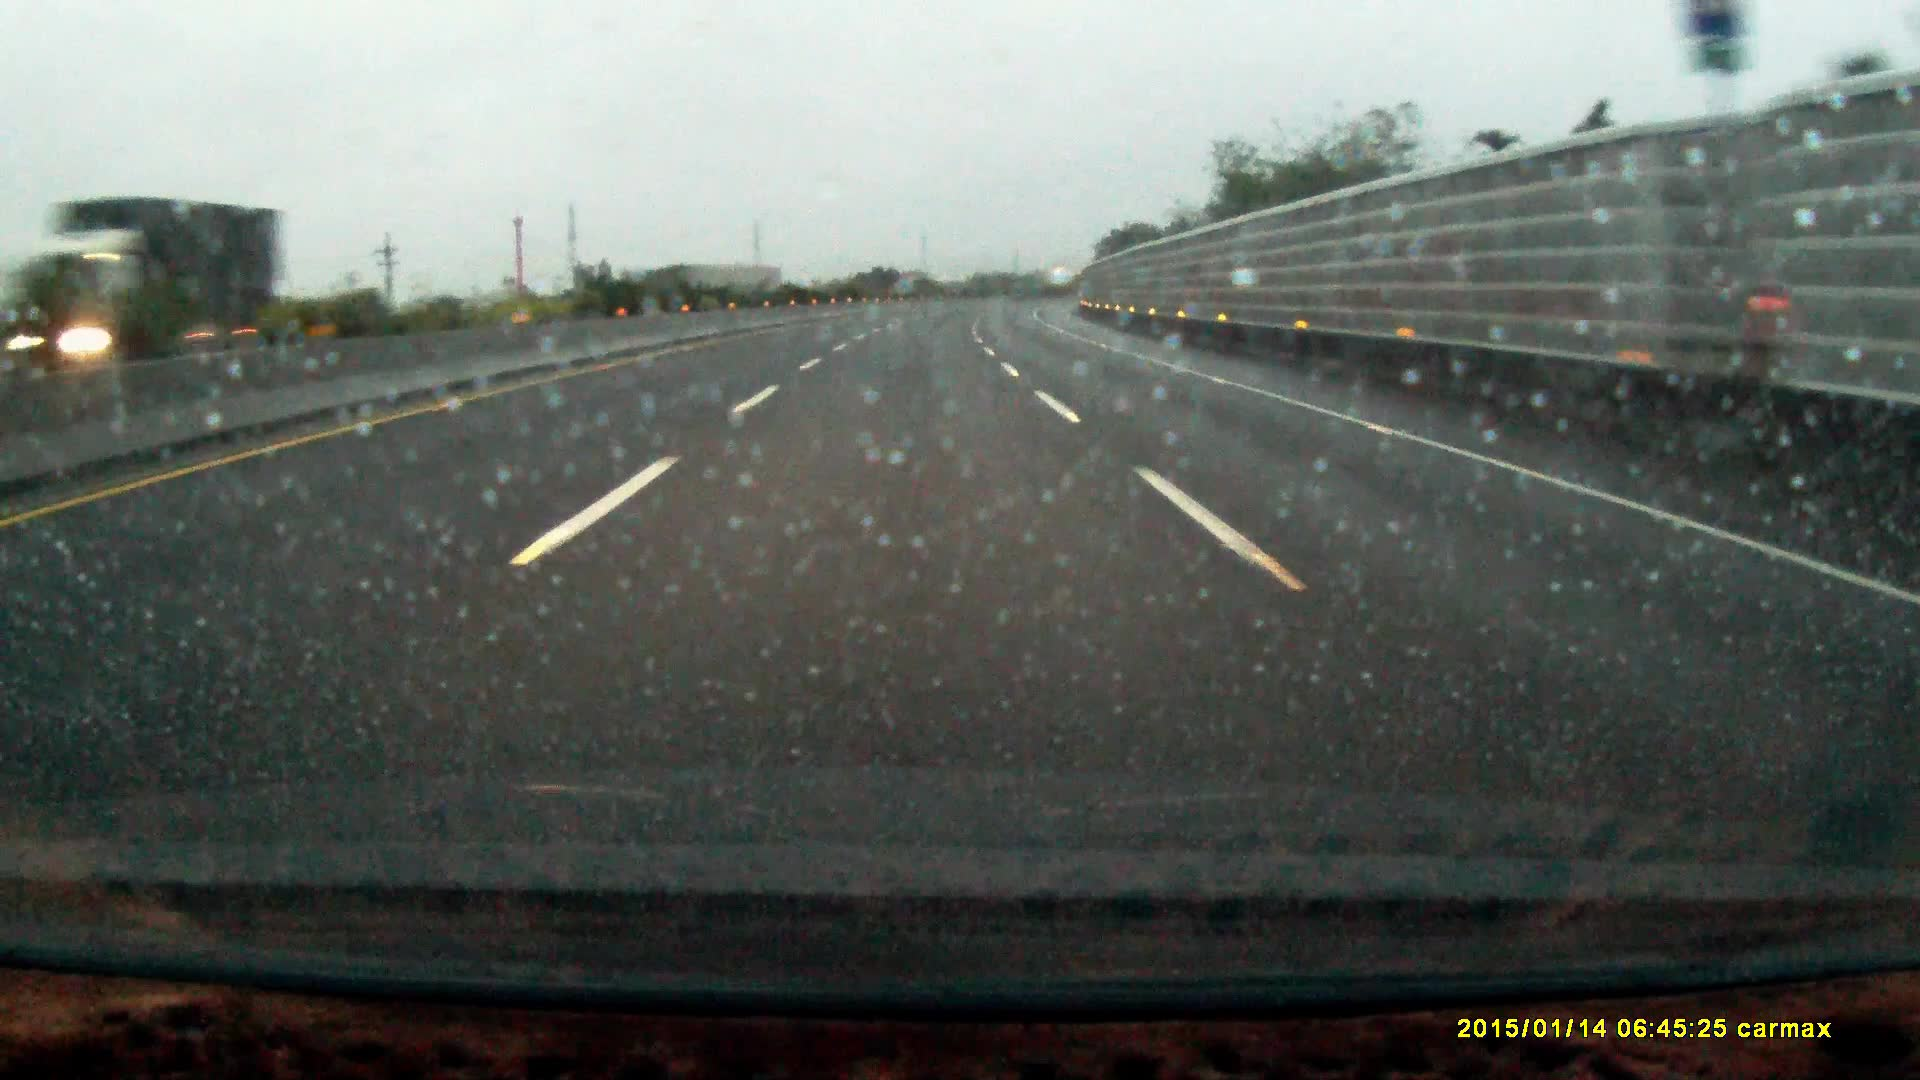vehicle: (34, 193, 269, 368)
